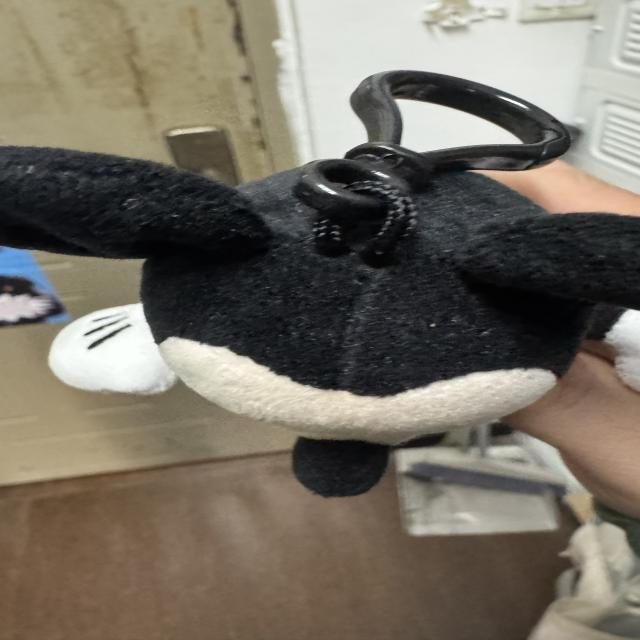mickey: (0, 72, 639, 495)
